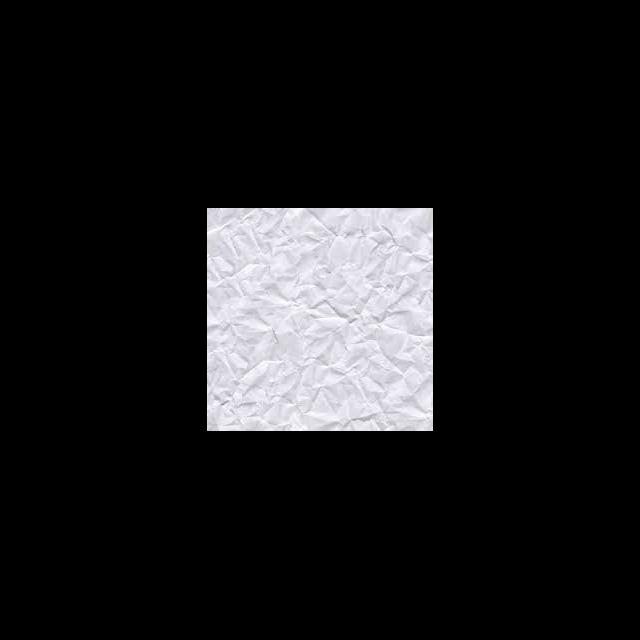paper: (207, 208, 432, 430)
